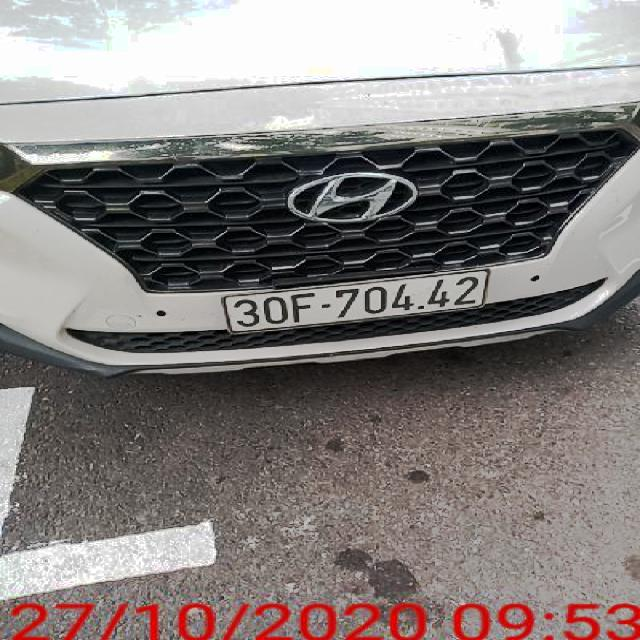license_plate: (219, 271, 492, 333)
